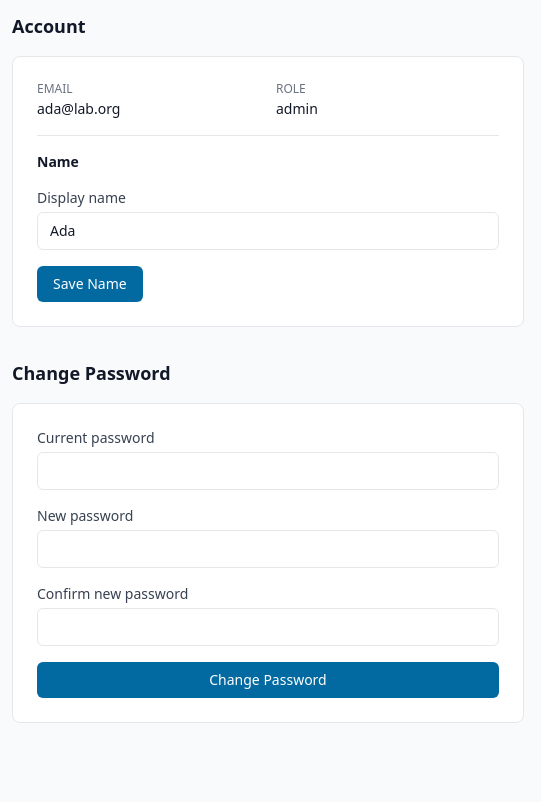
Scenario: blocks a password change when the new passwords do not match
In the password field labelled "Current password": coordinates (268, 471) [37,452,499,490], type "oldpass123"
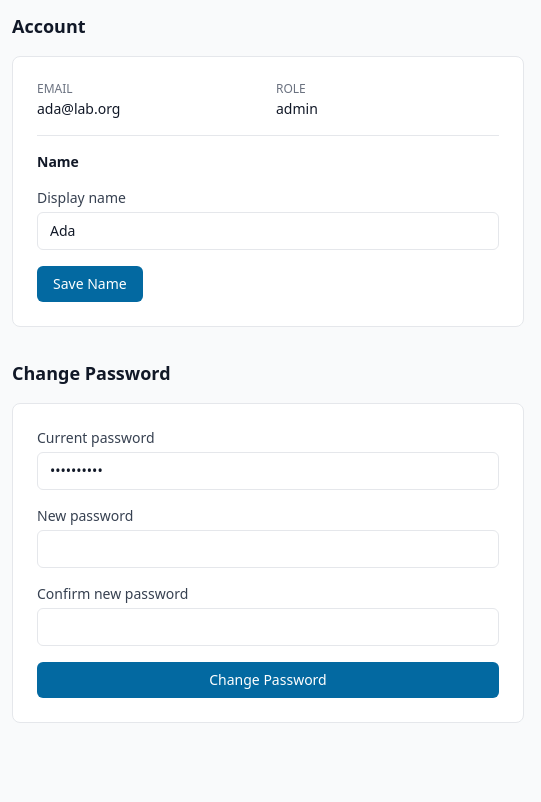
In the password field labelled "New password": coordinates (268, 549) [37,530,499,568], type "newpass123"
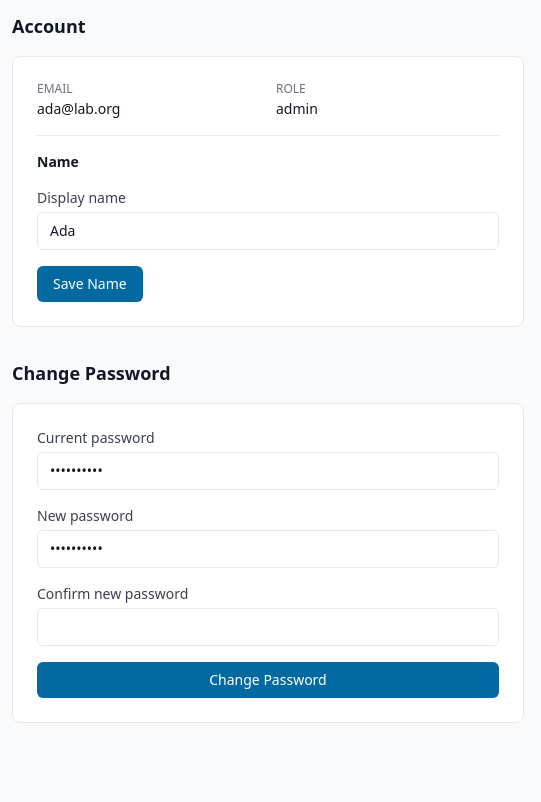
In the password field labelled "Confirm new password": coordinates (268, 627) [37,608,499,646], type "different123"
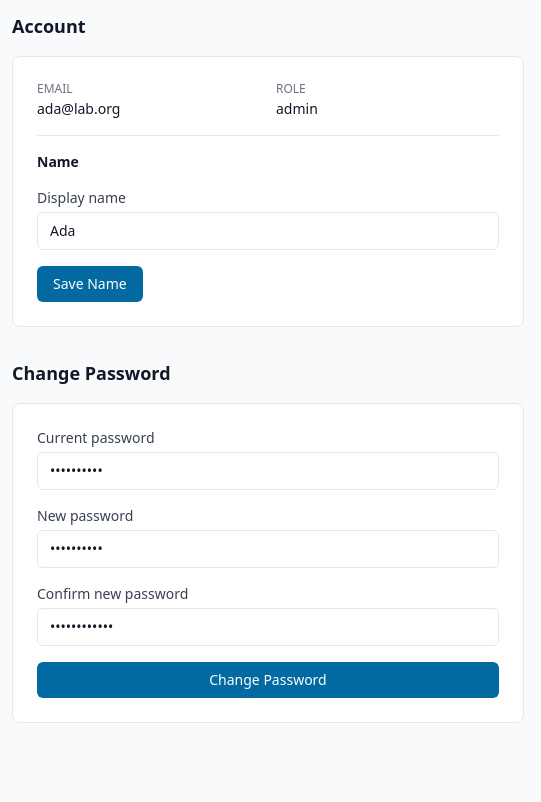
Click the button "Change Password": coordinates (268, 680) [37,662,499,698]
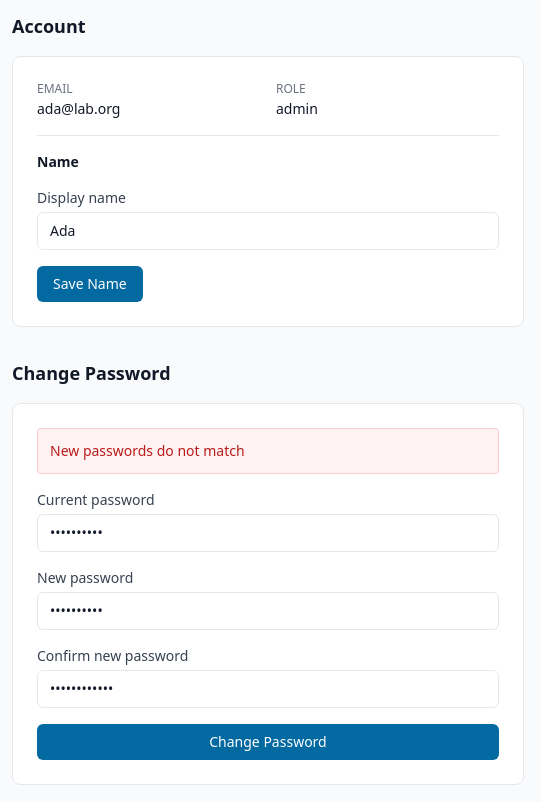
Expected: the text "New passwords do not match" is shown, [37,428,499,474]
